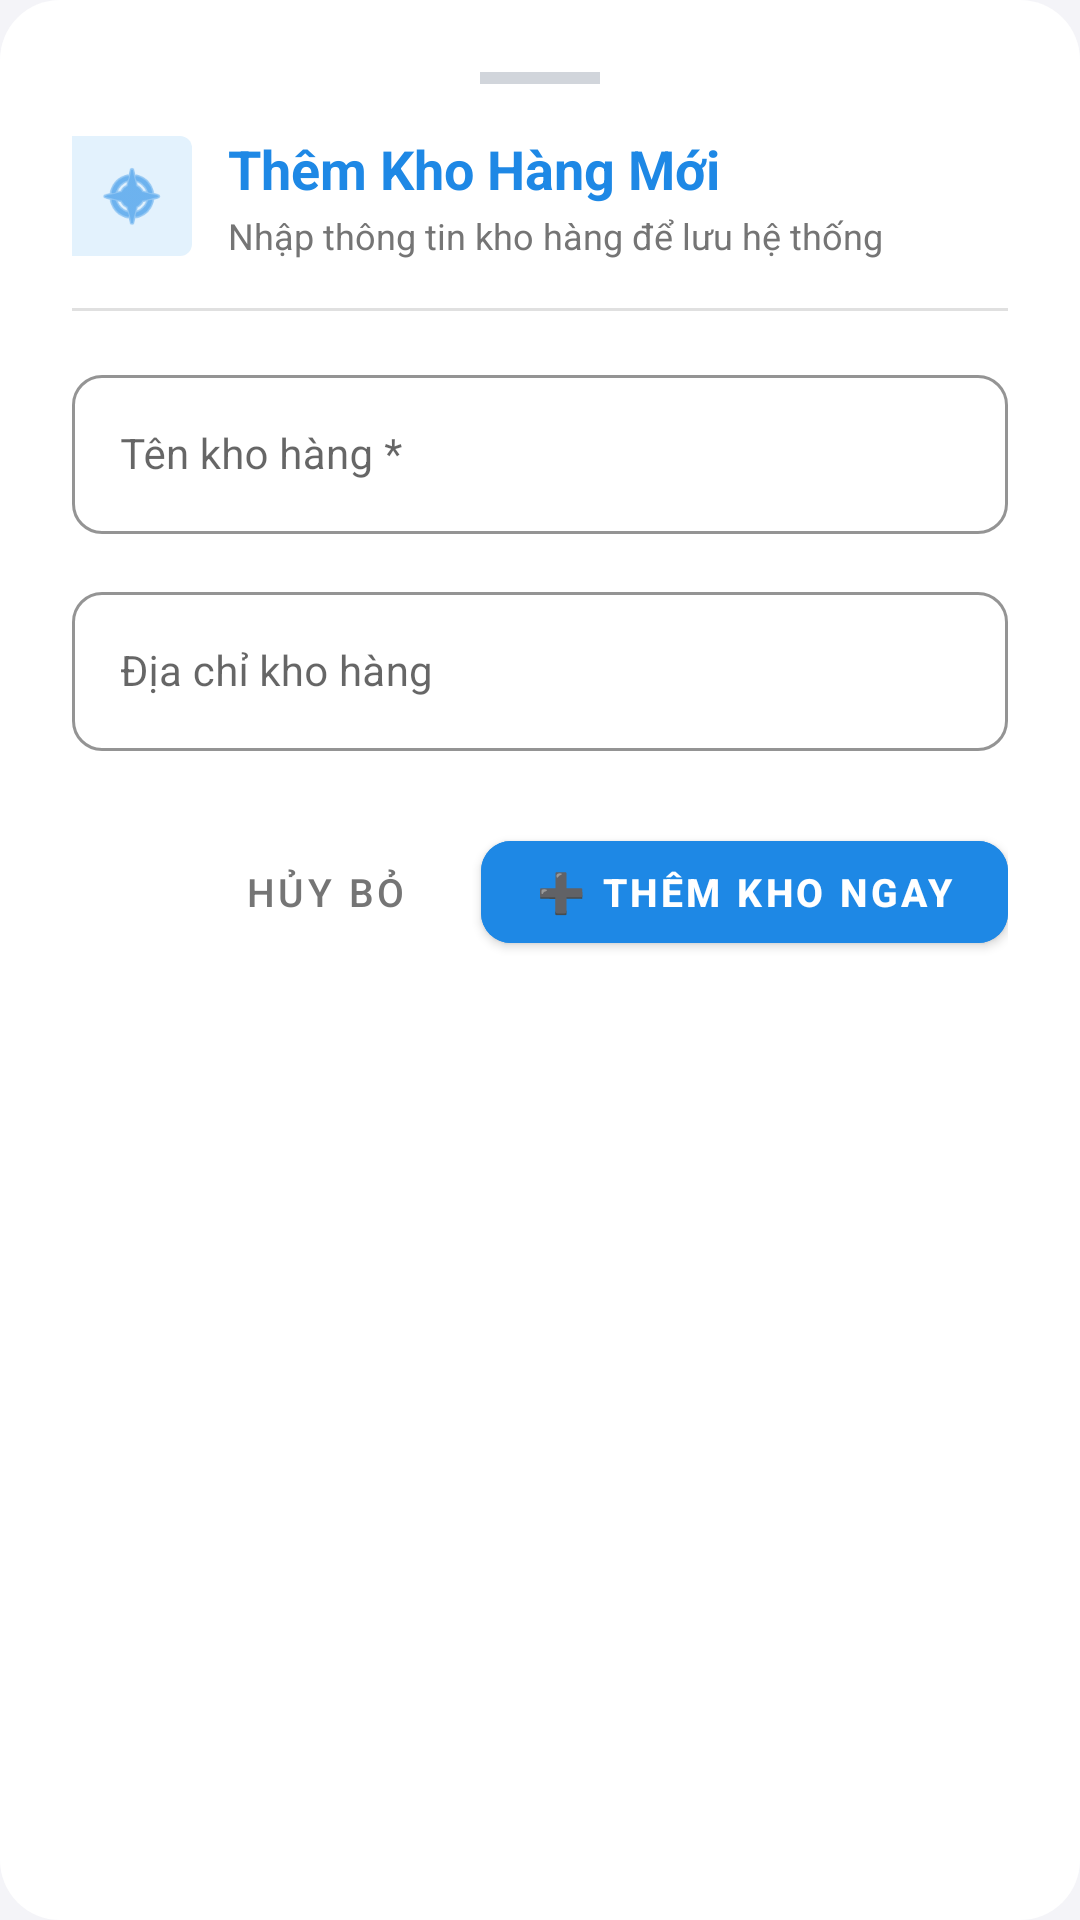

Point at icon controls on the screen. Image size 1080×1920, points as (x=x, y=y).
compass: (x=132, y=196)
